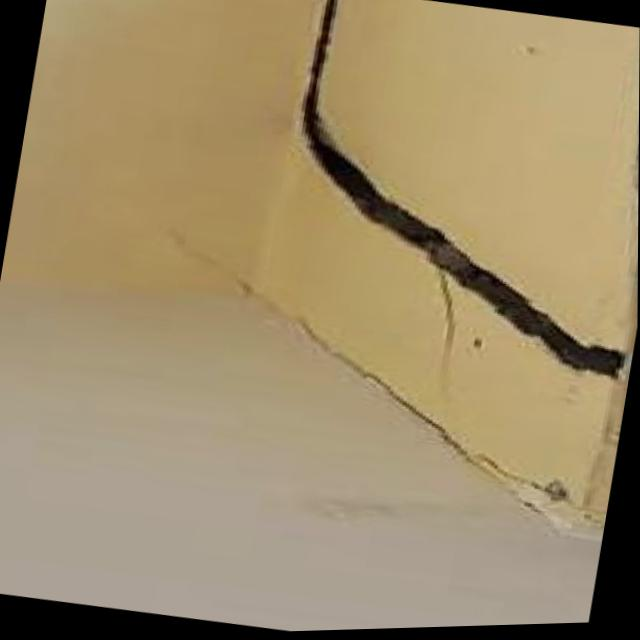Crack: (321, 149, 639, 392), (244, 0, 381, 211)
